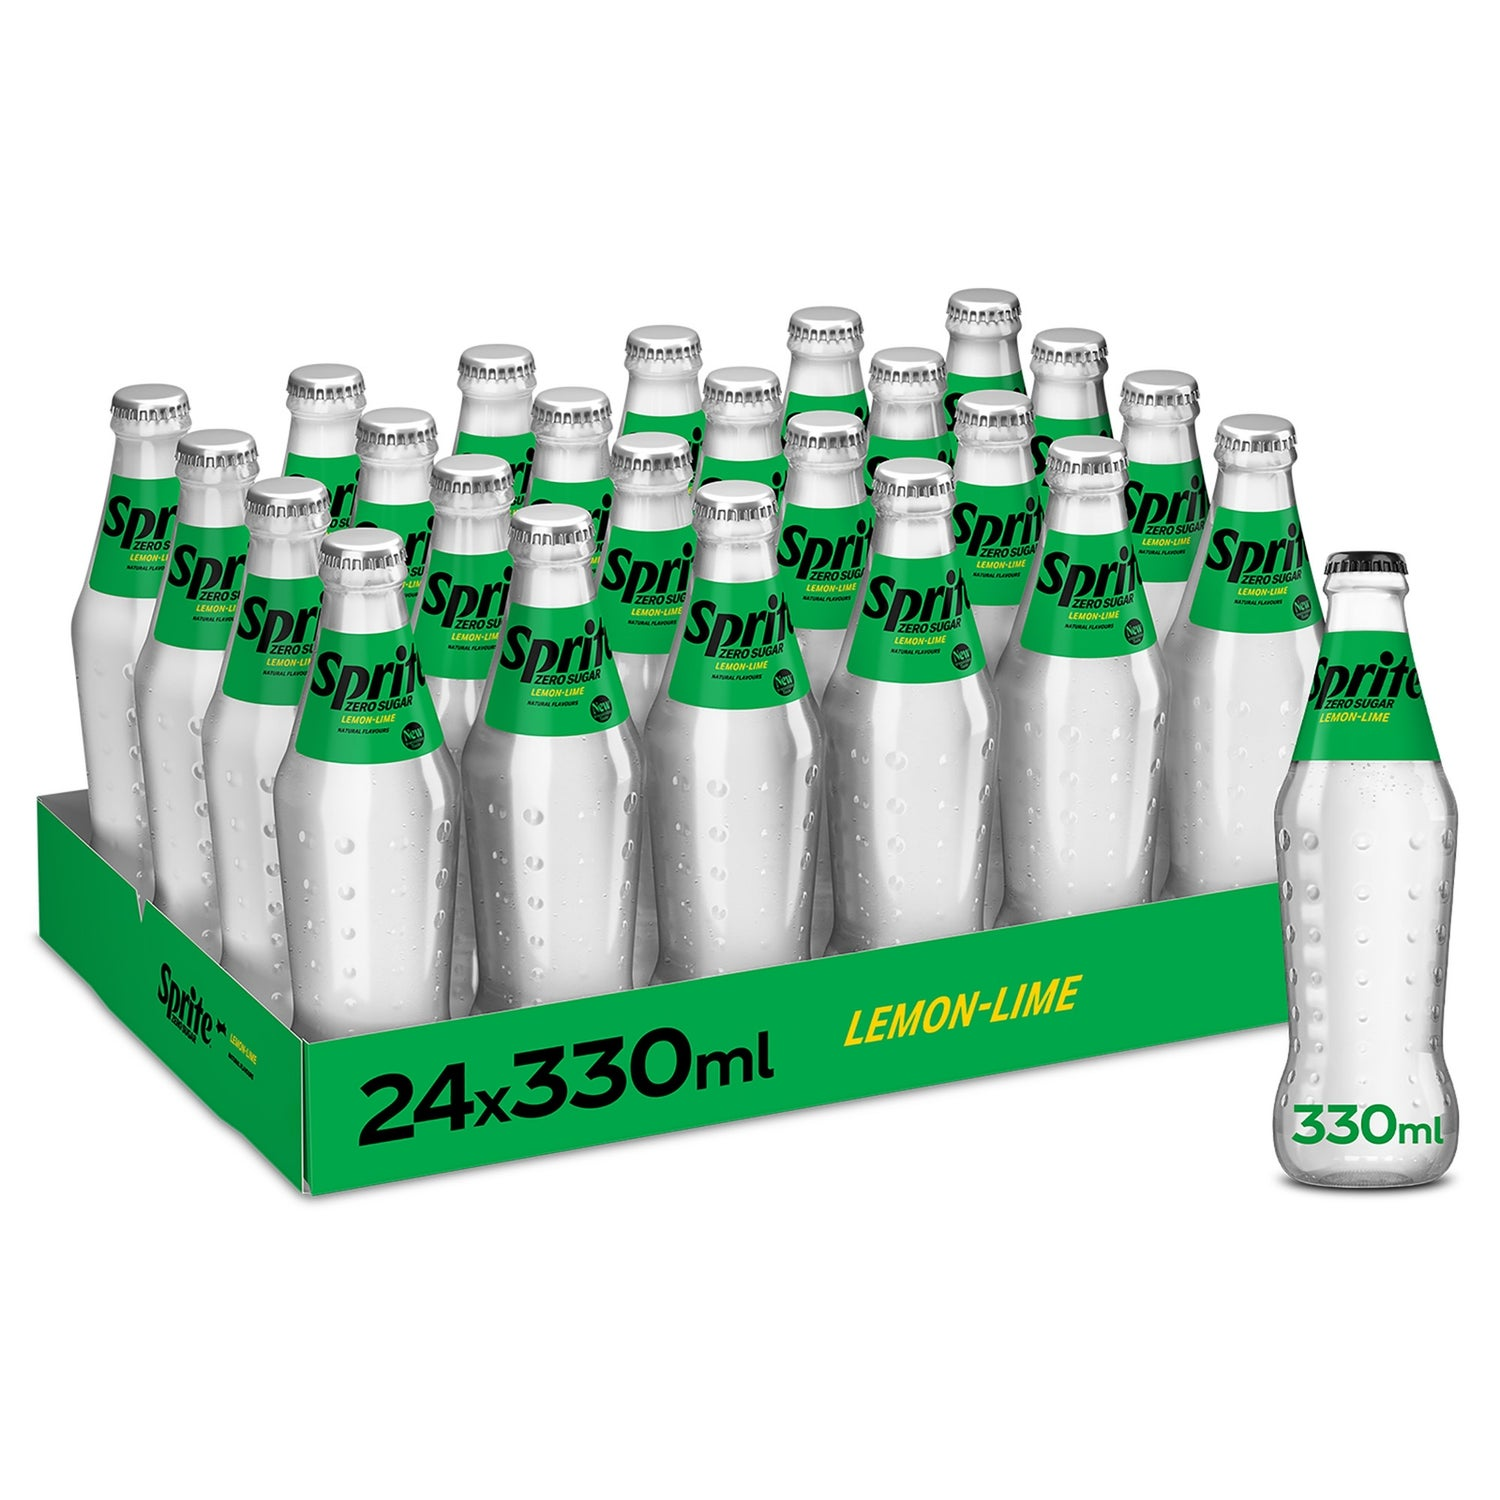glass_bottle: (26, 260, 1477, 1255)
